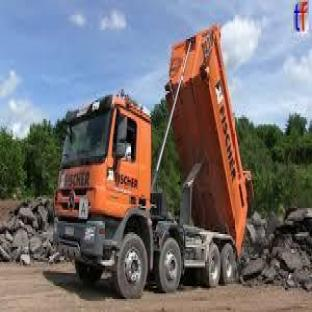Vehicle: (40, 17, 254, 289)
